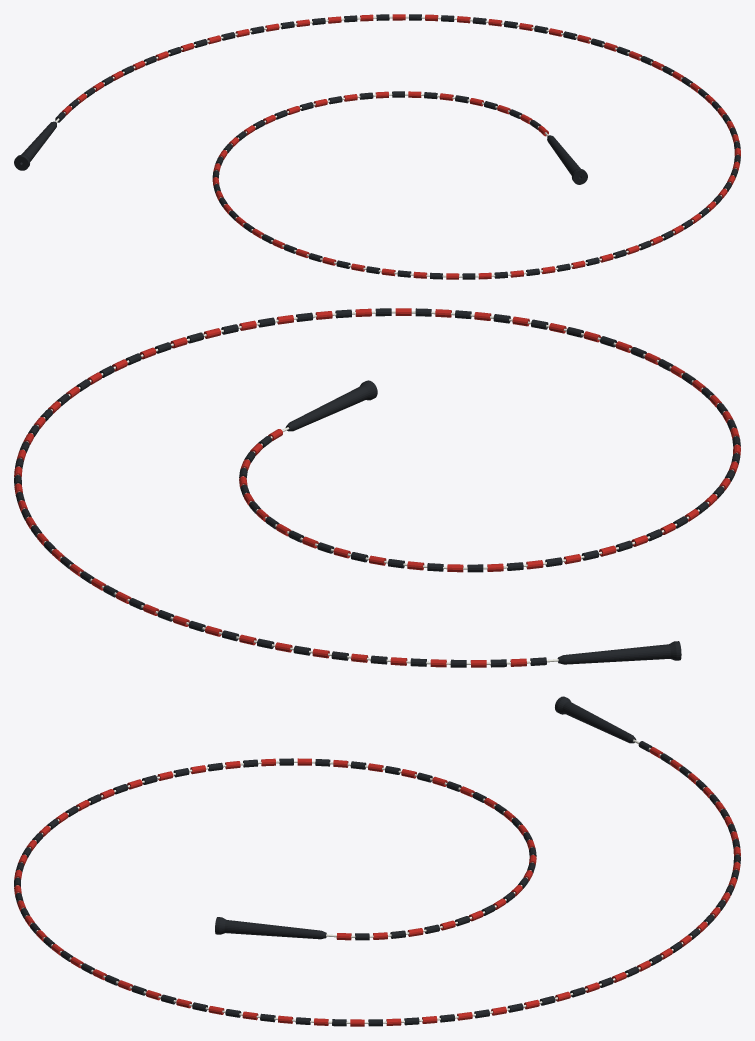
The model's file is A-NEW-20261026-BEADED-JUMP-ROPE-001_LOD1_R1.glb.
The picture shows the model from 3 angles, top to bottom: view 1: azimuth 30°, elevation 25°; view 2: azimuth 150°, elevation 25°; view 3: azimuth 270°, elevation 25°; orthographic projection. The views are drawn at different scales.
Parts seen in each view (by area): view 1: continuous white cord, handle shell 1, handle shell 0; view 2: handle shell 1, handle shell 0, continuous white cord; view 3: handle shell 0, handle shell 1, continuous white cord.
Part boxes in pixels (bbox=[...]): continuous white cord: bbox=[55, 16, 738, 277]; handle shell 1: bbox=[14, 121, 56, 170]; handle shell 0: bbox=[547, 135, 587, 184]; handle shell 1: bbox=[557, 641, 681, 664]; handle shell 0: bbox=[285, 380, 377, 431]; continuous white cord: bbox=[17, 311, 737, 664]; handle shell 0: bbox=[215, 917, 326, 939]; handle shell 1: bbox=[555, 696, 636, 743]; continuous white cord: bbox=[16, 739, 738, 1023].
Size of the model in its own units: 0.9081 by 0.021 by 0.8662.
